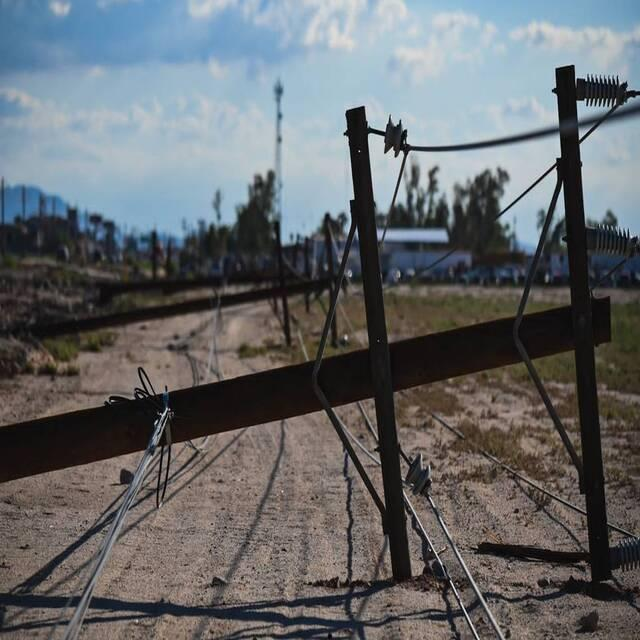Inclined Pole: (0, 55, 640, 585), (27, 215, 353, 345)
